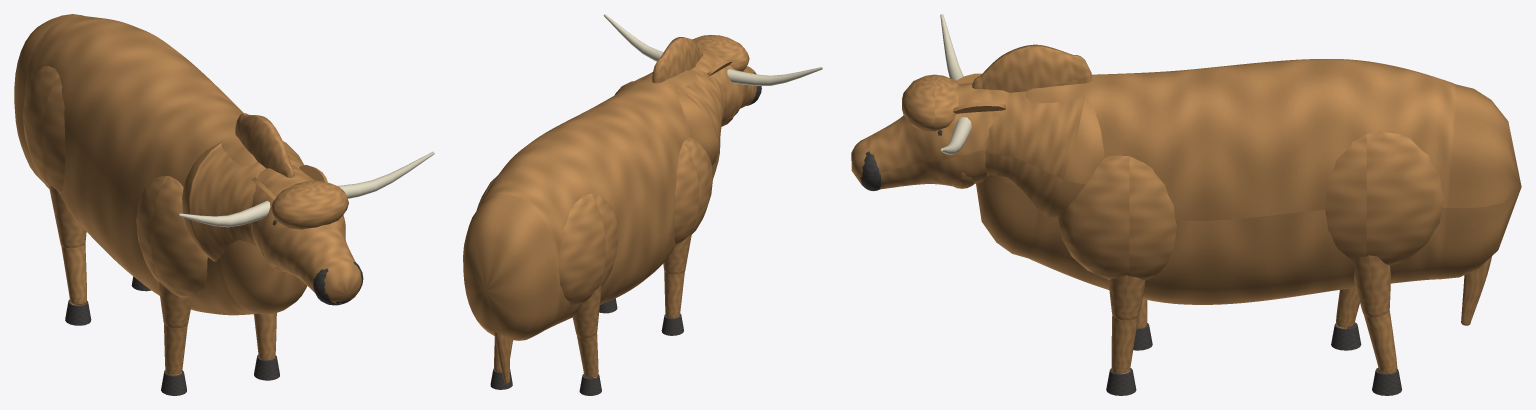
The model's file is farm-and-working-animals-hd-highland-cow-ef0127a9__29188.glb.
3 renders of one model, left to right at view 1: azimuth 30°, elevation 25°; view 2: azimuth 150°, elevation 25°; view 3: azimuth 270°, elevation 25°, orthographic. The views are drawn at different scales.
Parts seen in each view (by area): view 1: highland-cow; view 2: highland-cow; view 3: highland-cow.
Part boxes in pixels (x1,y1,x2,y2): highland-cow: [14, 14, 434, 395]; highland-cow: [463, 14, 822, 395]; highland-cow: [851, 14, 1521, 395].
Size of the model in its own units: 1.22 by 1.35 by 2.56.
3 materials, 2 textured.
